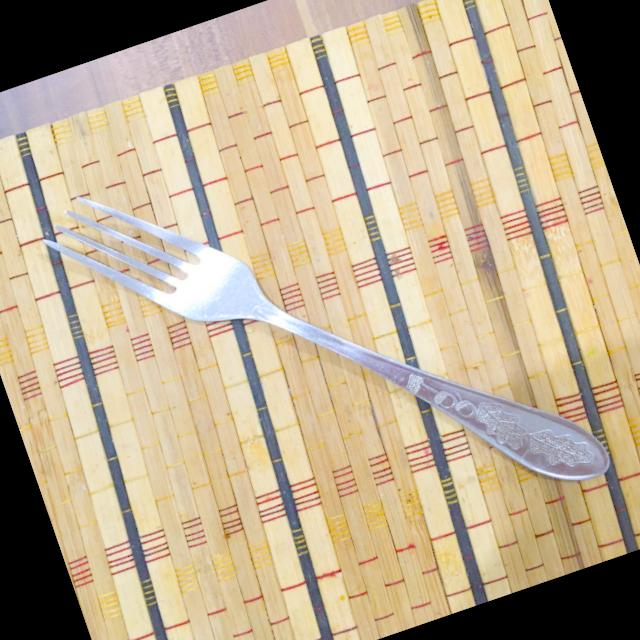fork: (29, 60, 614, 628)
